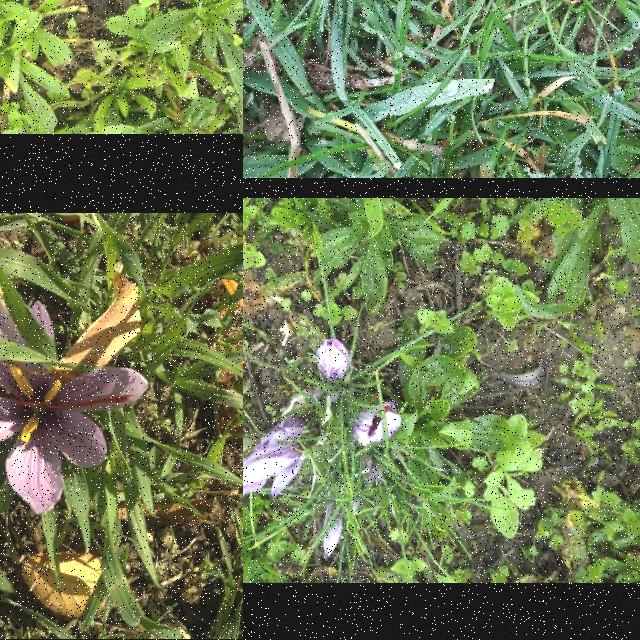flower: (0, 293, 148, 514), (356, 402, 402, 448), (318, 338, 350, 382)
overlap: (243, 419, 304, 506)
